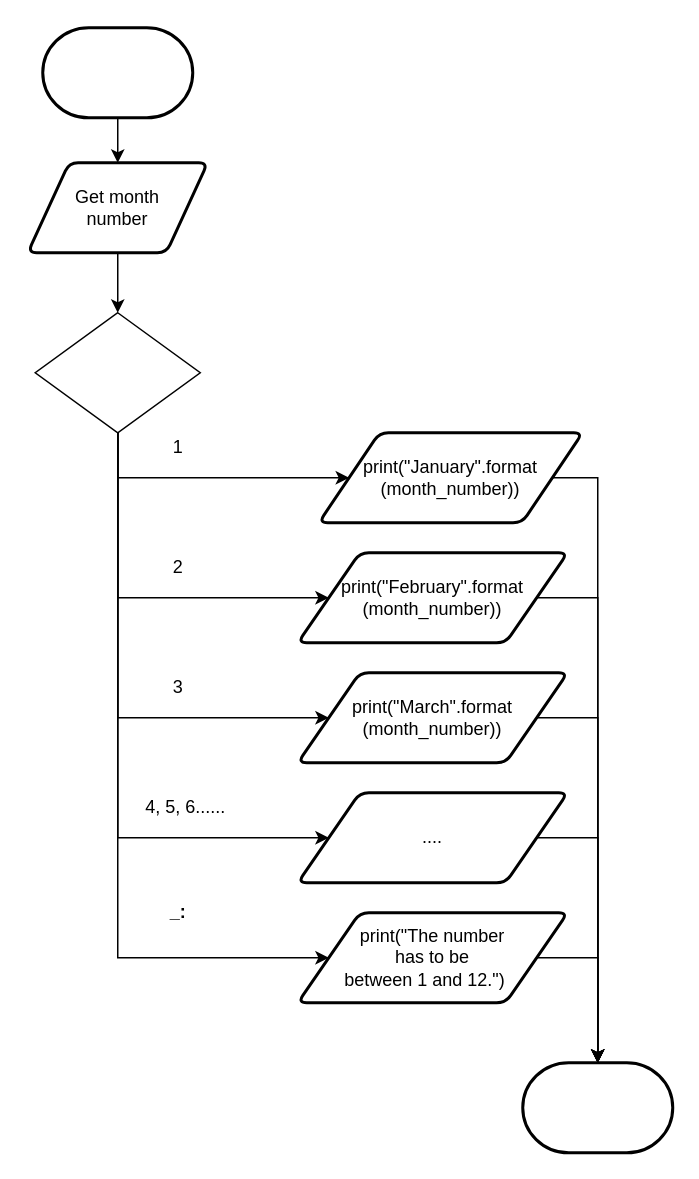
The diagram is 699 pixels wide and 1179 high, and some of its shapes have lost their labels. The shapes that lost their labels are listed below. From the top down, each one's box as (x1, y1, x2, y2) in pixels, then its label:
(40, 26, 194, 118): Start
(34, 311, 200, 433): month number
(520, 1060, 674, 1154): Stop
